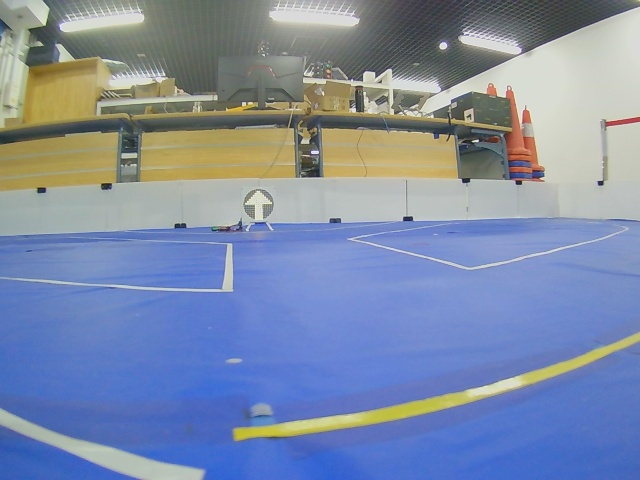straight_yellow: (244, 189, 273, 222)
